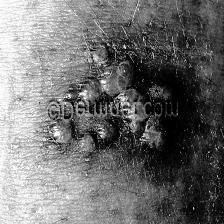Toxin: (50, 43, 182, 95), (43, 126, 173, 163)
